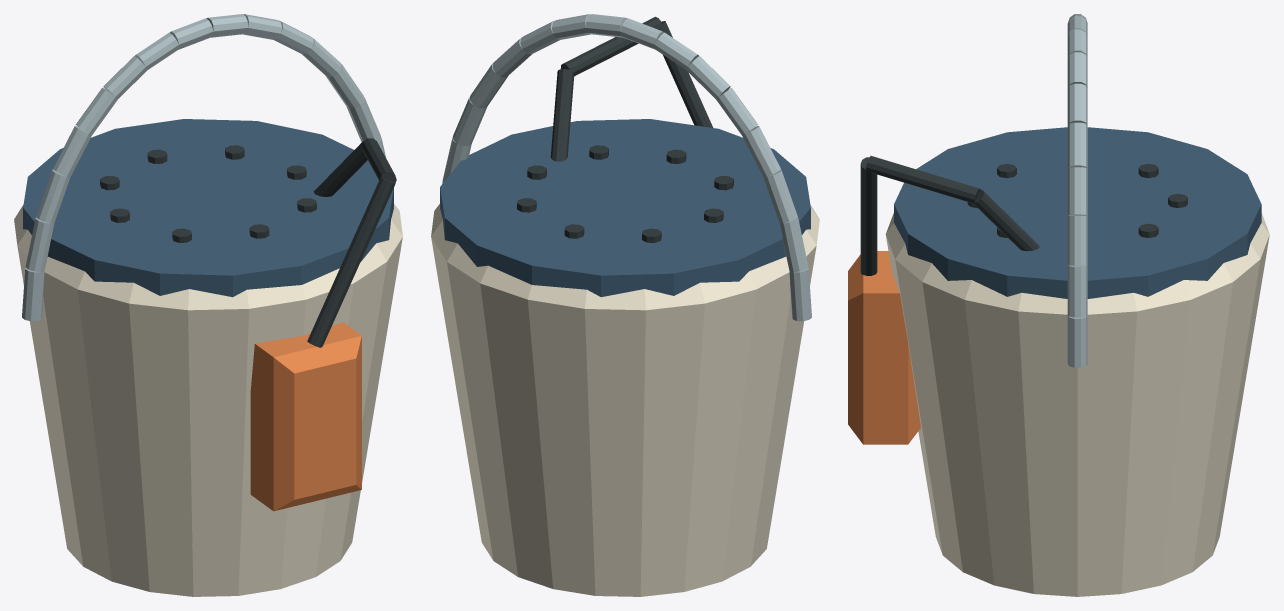
File: harbor-and-tackle-live-bait-pail-8eb7c005__19572.glb
The picture shows the model from 3 angles, left to right: view 1: azimuth 30°, elevation 25°; view 2: azimuth 150°, elevation 25°; view 3: azimuth 270°, elevation 25°; orthographic projection.
Visible parts, largest first — view 1: ivory, navy, orange, metal, rubber; view 2: ivory, navy, metal, rubber; view 3: ivory, navy, orange, metal, rubber.
Part boxes in pixels (x1=…): ivory: x1=14, y1=204, x2=402, y2=596; navy: x1=23, y1=119, x2=393, y2=297; orange: x1=250, y1=322, x2=361, y2=511; metal: x1=22, y1=14, x2=385, y2=321; rubber: x1=100, y1=138, x2=396, y2=347; ivory: x1=431, y1=204, x2=819, y2=596; navy: x1=440, y1=119, x2=810, y2=297; metal: x1=442, y1=14, x2=811, y2=321; rubber: x1=517, y1=16, x2=733, y2=242; ivory: x1=885, y1=213, x2=1269, y2=596; navy: x1=894, y1=127, x2=1261, y2=298; orange: x1=848, y1=251, x2=920, y2=444; metal: x1=1067, y1=14, x2=1087, y2=367; rubber: x1=860, y1=156, x2=1187, y2=275.
Size of the model in its own units: 0.5028 by 0.6713 by 0.505.
